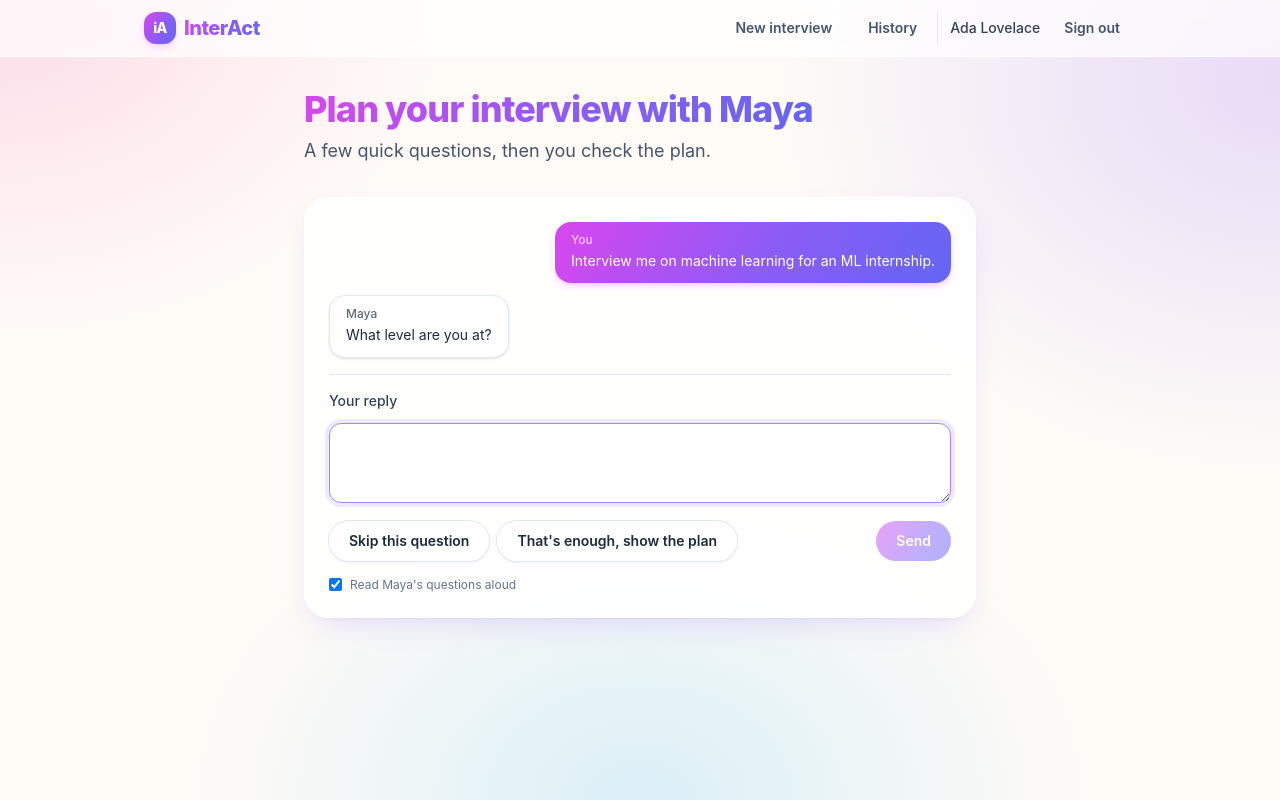
Test case: the clarification chat › can skip a question
Click the button "Skip this question": click(409, 540) [329, 520, 489, 560]
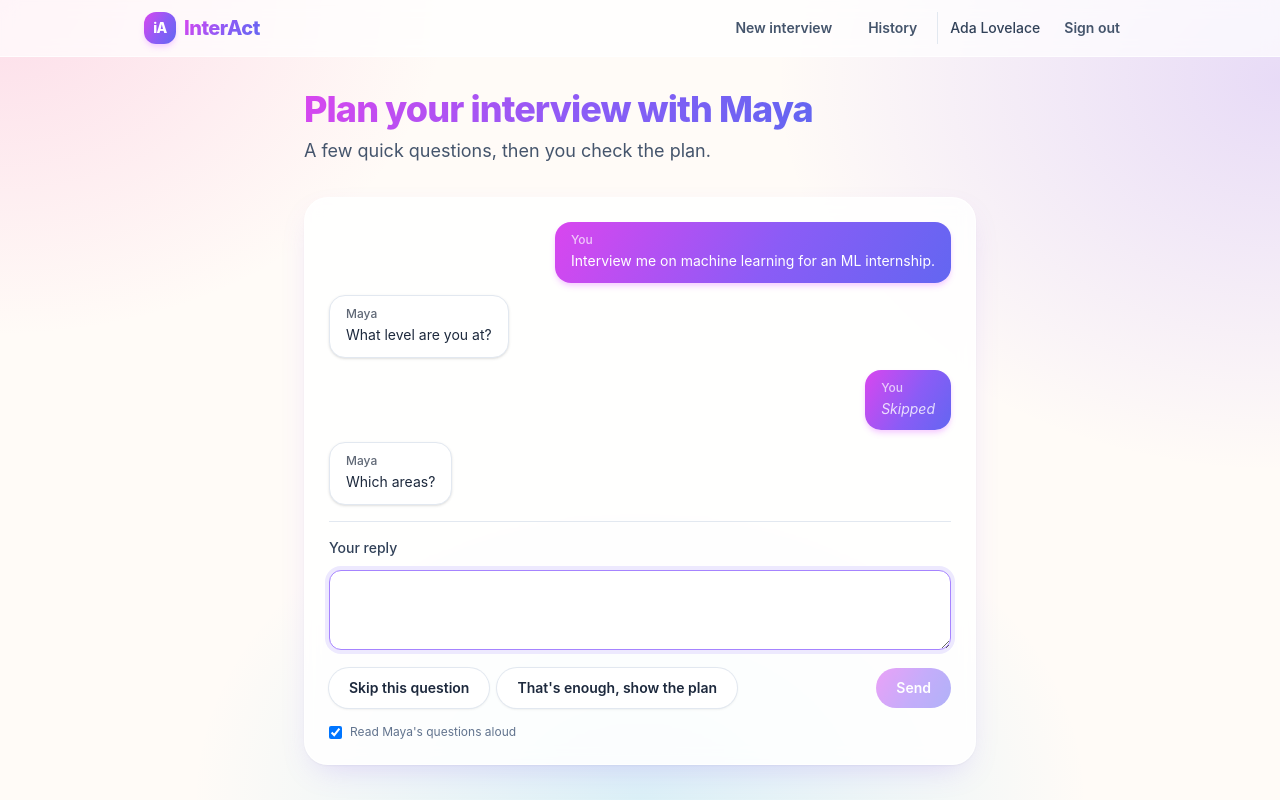
Expected: the text "Skipped" is shown, [881, 398, 935, 420]
Expected: the text "Which areas?" is shown, [346, 471, 435, 494]
